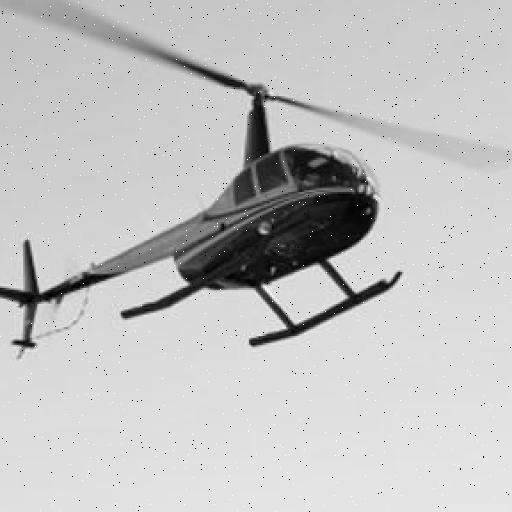helicopter: (1, 1, 404, 358)
